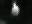person: (12, 1, 21, 17)
